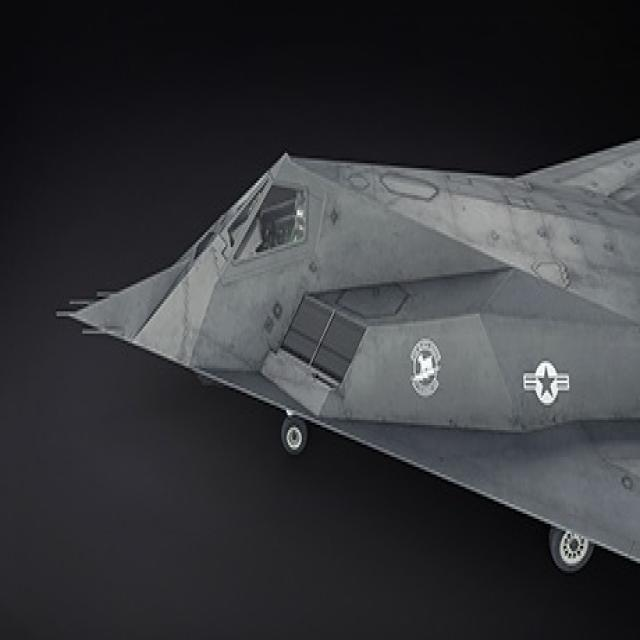F117: (32, 74, 640, 586)
